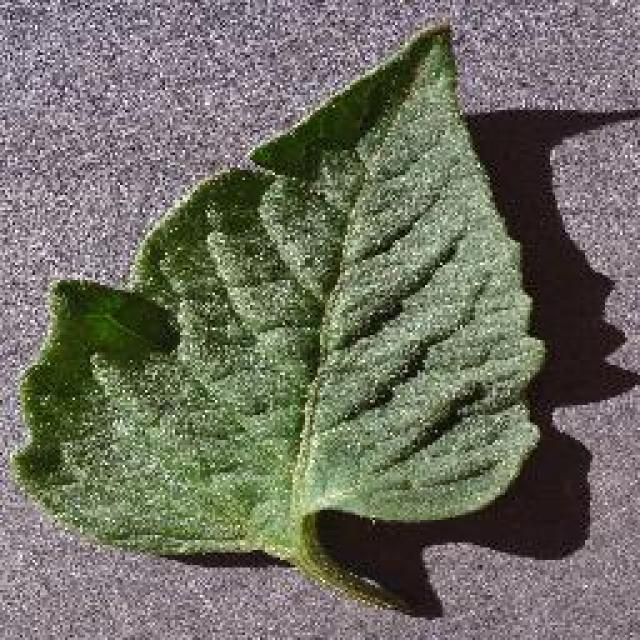healthy: (8, 24, 547, 611)
